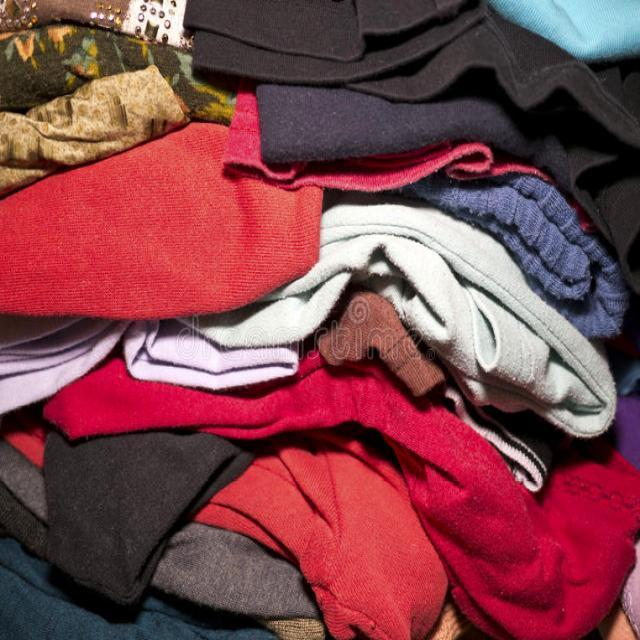clothes: (0, 50, 639, 599)
